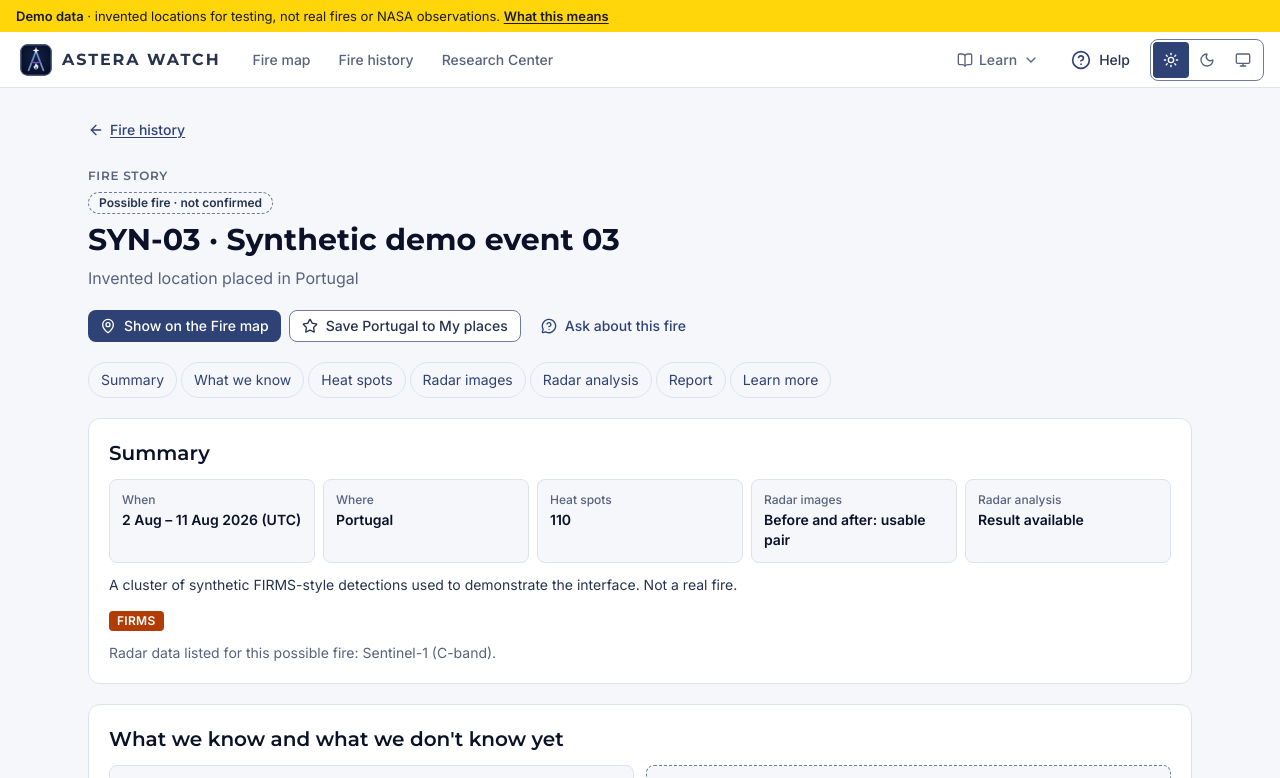
it: Fire Story › links onward: map, My places (real save), Ask Astera (coming soon)
The width and height of the screenshot is (1280, 778).
Check: the heading "SYN-03 · Synthetic demo event 03" is shown, box [88,221,620,258]
Step 1. Click the button "Save Portugal to My places" → (405, 326), box [289,310,521,342]
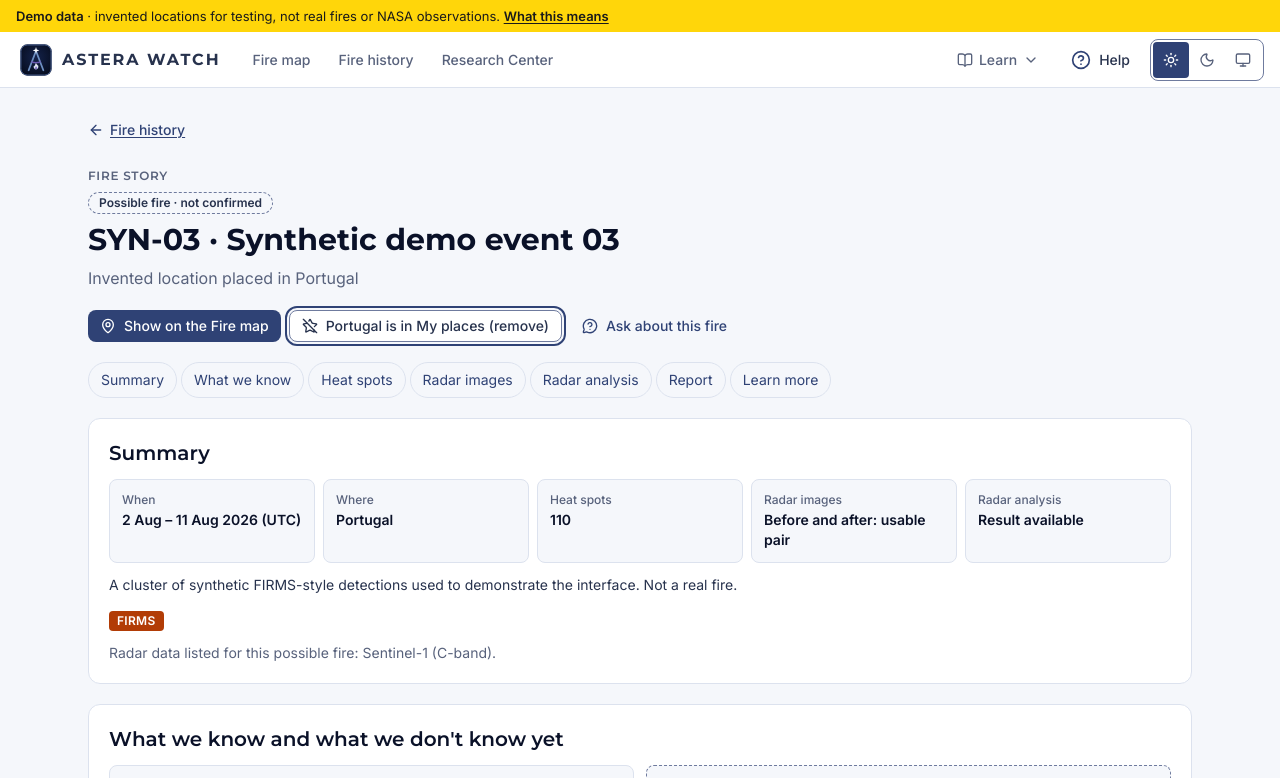
Step 2. Click the button "Ask about this fire" → (654, 326), box [570,310,739,342]
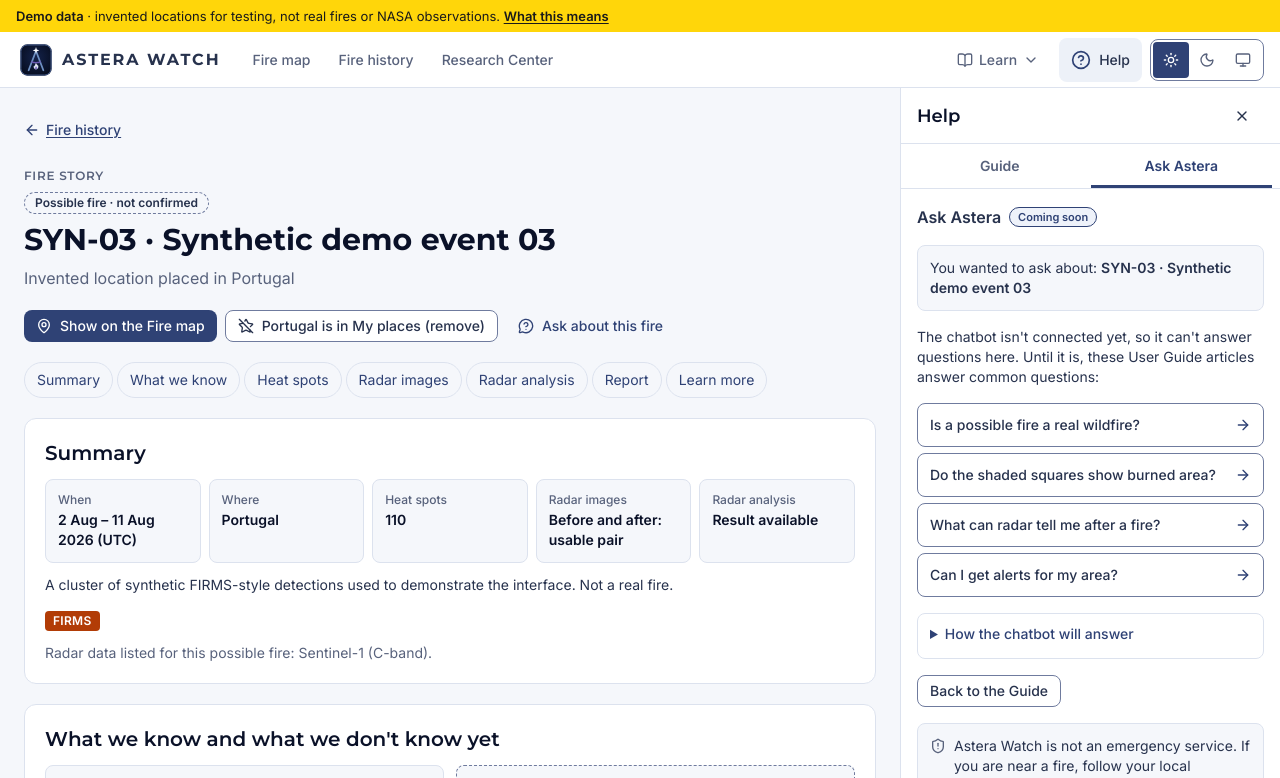
Check: the tab "Ask Astera" is shown, box [1090,144,1272,188]
